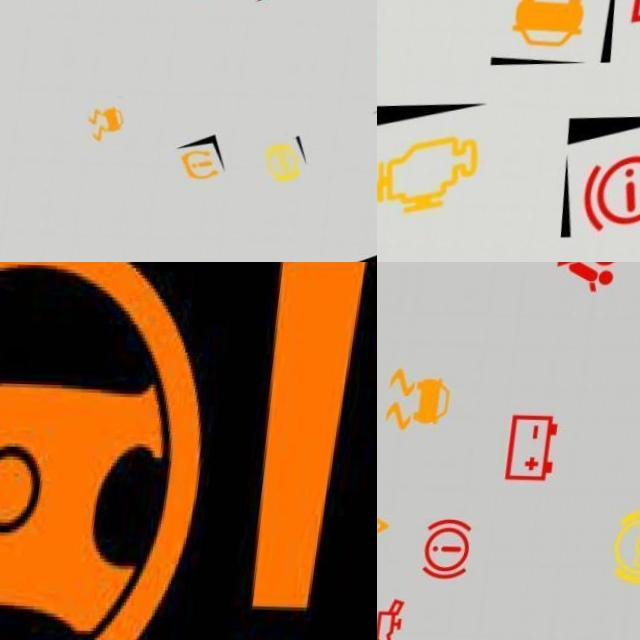Electronic Power Steering: (0, 262, 377, 640)
